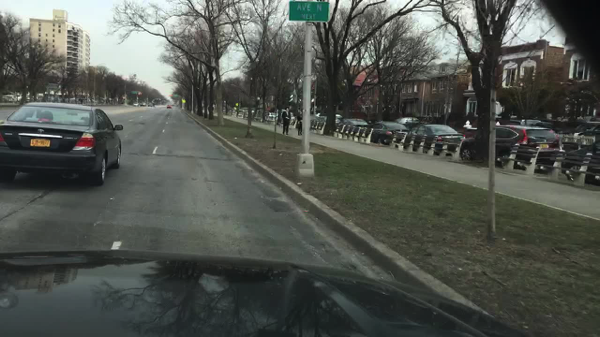car: (1, 101, 123, 185), (459, 125, 559, 169), (398, 124, 464, 153), (560, 139, 599, 185), (360, 123, 407, 143), (506, 119, 553, 131), (334, 118, 369, 133), (574, 124, 598, 139), (394, 117, 421, 128), (275, 111, 294, 124), (309, 118, 326, 130), (316, 114, 342, 120), (1, 95, 18, 102), (265, 111, 277, 119), (256, 110, 264, 118), (245, 109, 254, 116), (18, 97, 30, 102), (166, 103, 172, 109), (240, 109, 246, 114), (133, 101, 138, 107), (140, 102, 145, 107), (148, 103, 154, 107)
person: (280, 107, 290, 134), (295, 113, 302, 135)
traffic sign: (289, 2, 329, 21), (132, 91, 138, 94)
